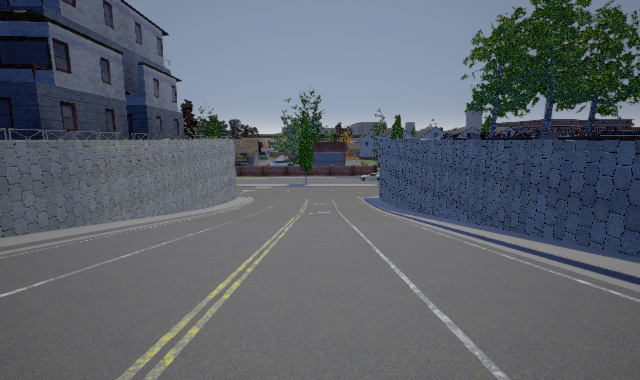vehicle: (359, 171, 378, 183)
